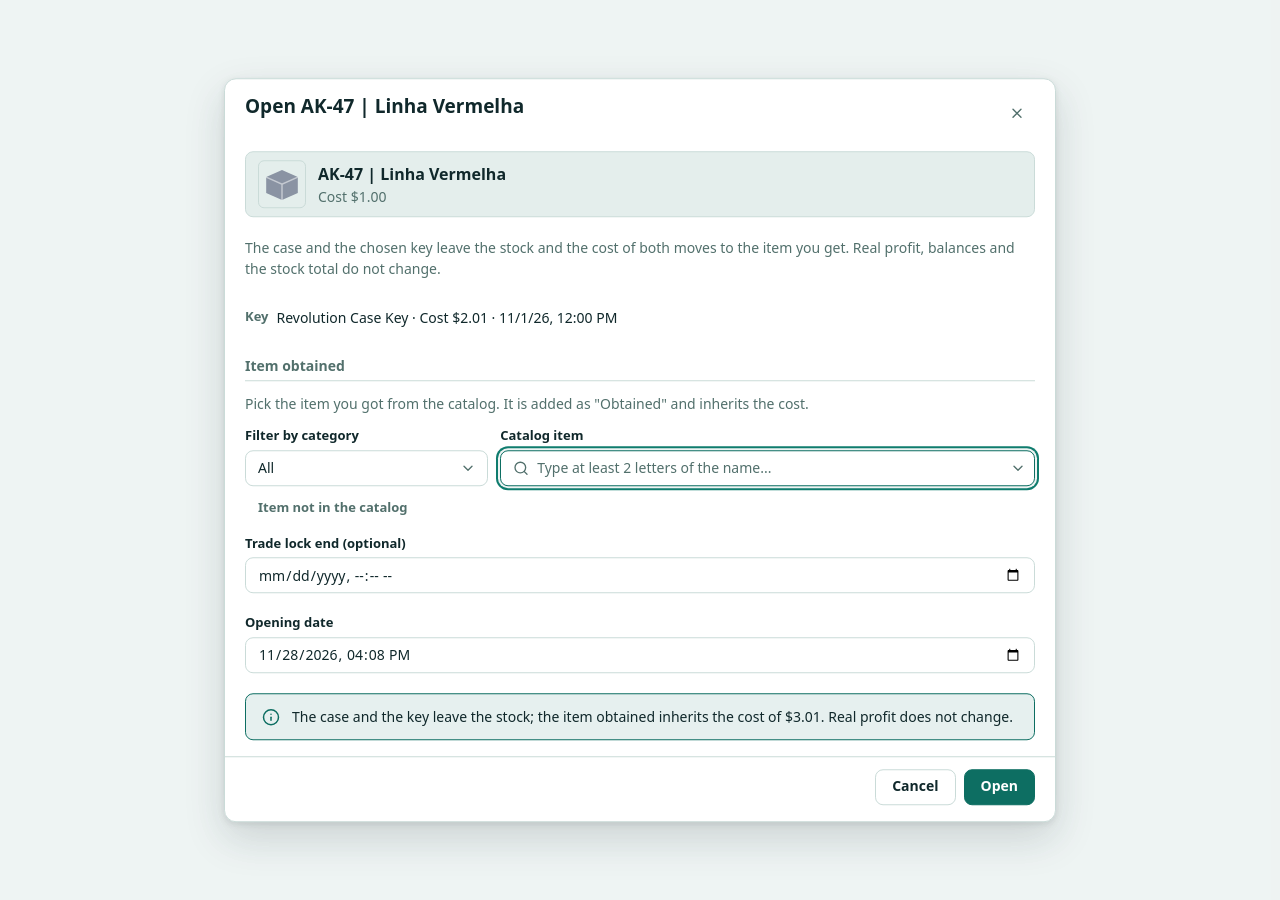
Test: OpenContainerModal: caixa › uma chave só: aparece como texto (sem seletor); sem escolher o item obtido, o erro aparece e nada é enviado
Expected: the text "Revolution Case Key · Cost $2.01 · 11/1/26, 12:00 PM" is shown, [276,307,618,328]
Click the button "Open".
click(999, 787)  # box [964,769,1035,805]
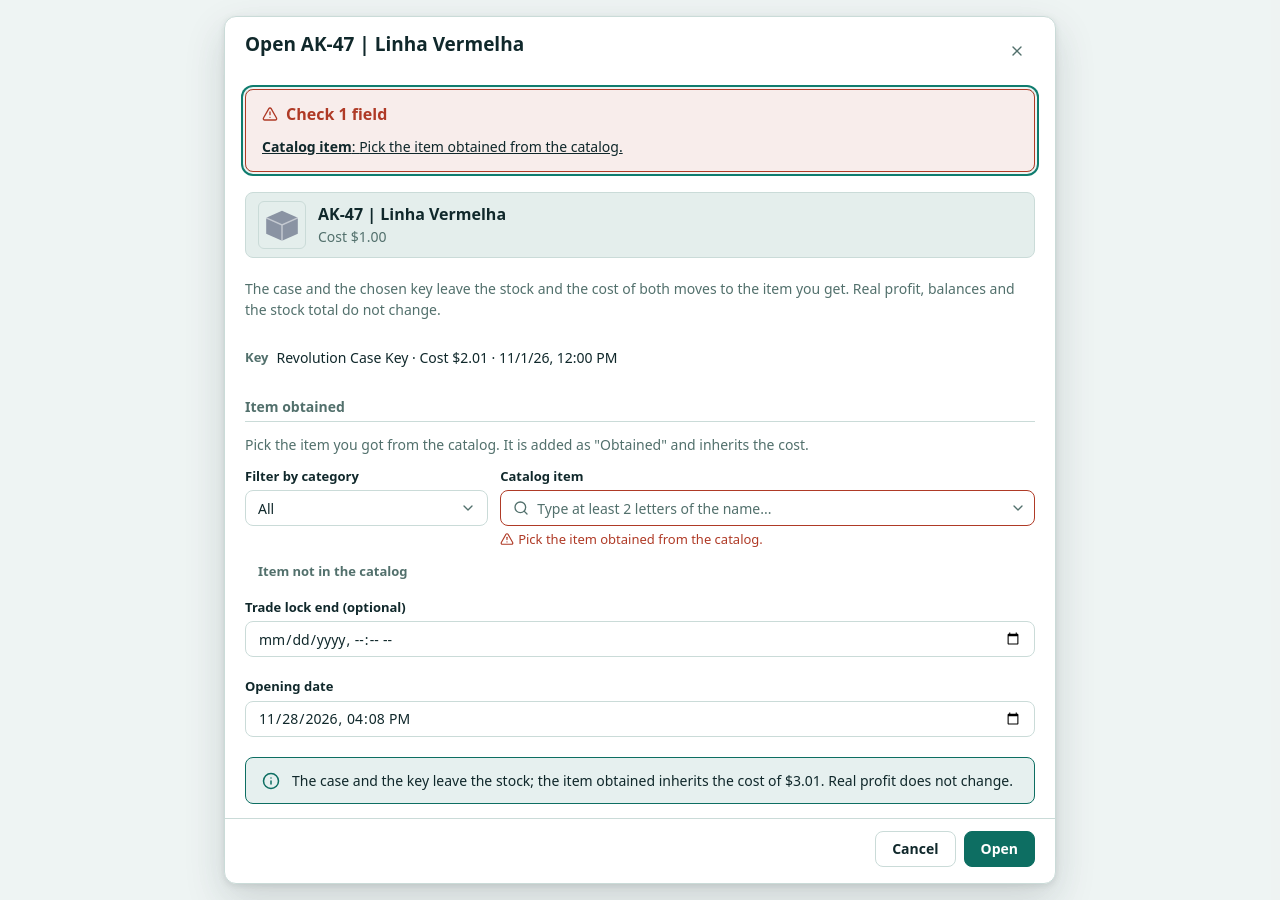
Expected: the message "Check 1 field Catalog item: Pick the item obtained from the catalog." is shown, [245,89,1035,172]
